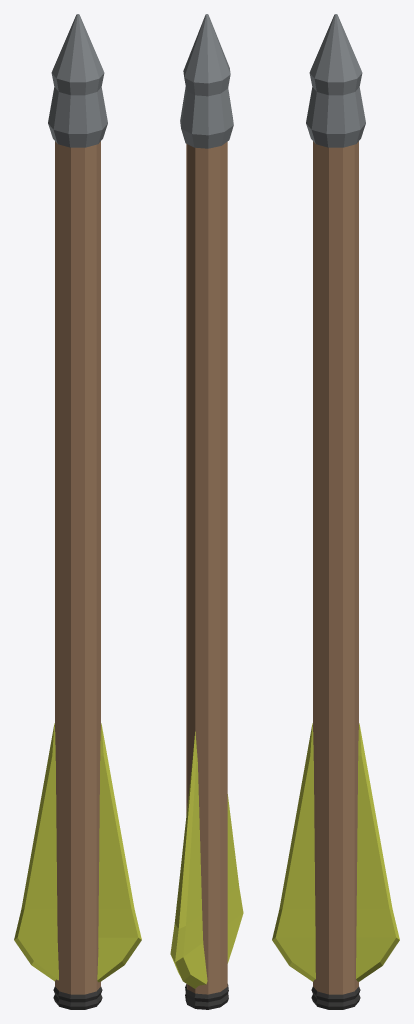
The model's file is Crossbow Bolt.fbx.
The picture shows the model from 3 angles, left to right: view 1: azimuth 90°, elevation 25°; view 2: azimuth 150°, elevation 25°; view 3: azimuth 270°, elevation 25°; orthographic projection.
Parts seen in each view (by area): view 1: Cylinder, Cube, Cylinder.001; view 2: Cylinder, Cube, Cylinder.001; view 3: Cylinder, Cube, Cylinder.001.
Boxes of the visible parts, left/top/right/bottom form: Cylinder: left=53, top=141, right=102, bottom=1009; Cube: left=14, top=723, right=141, bottom=982; Cylinder.001: left=48, top=14, right=107, bottom=147; Cylinder: left=185, top=141, right=228, bottom=1009; Cube: left=170, top=731, right=243, bottom=988; Cylinder.001: left=180, top=14, right=233, bottom=148; Cylinder: left=311, top=141, right=360, bottom=1009; Cube: left=272, top=723, right=399, bottom=981; Cylinder.001: left=306, top=14, right=365, bottom=147.
Bounding box in the file's own units: 15.61 × 331 × 38.87.
